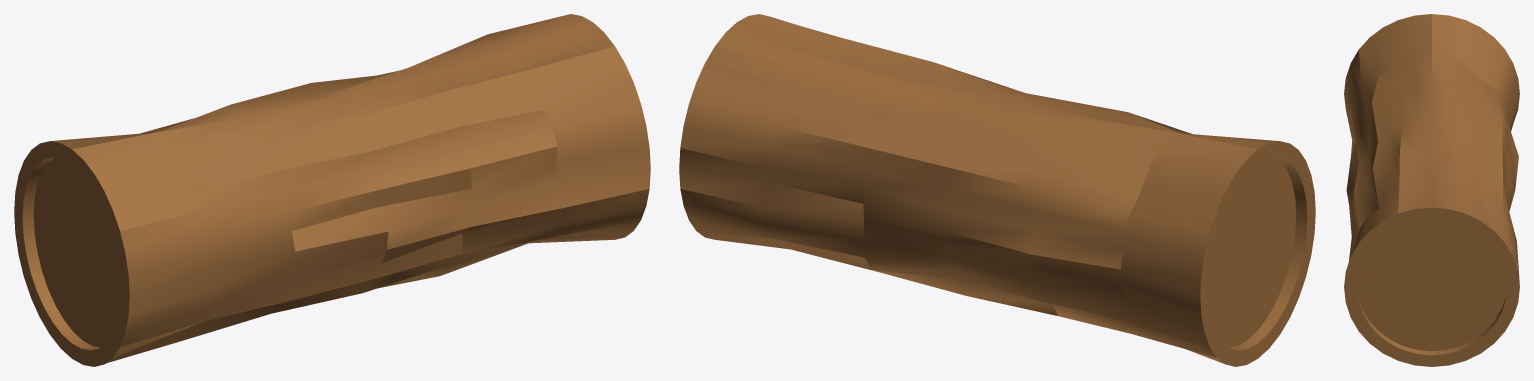
The model's file is WoodItem Model.fbx.
3 renders of one model, left to right at view 1: azimuth 30°, elevation 25°; view 2: azimuth 150°, elevation 25°; view 3: azimuth 270°, elevation 25°, orthographic. The views are drawn at different scales.
Visible parts, largest first — view 1: Wood; view 2: Wood; view 3: Wood.
Boxes of the visible parts, left/top/right/bottom form: Wood: left=14, top=14, right=650, bottom=366; Wood: left=679, top=14, right=1315, bottom=366; Wood: left=1344, top=14, right=1519, bottom=366.
Size of the model in its own units: 200 by 76.81 by 76.81.
